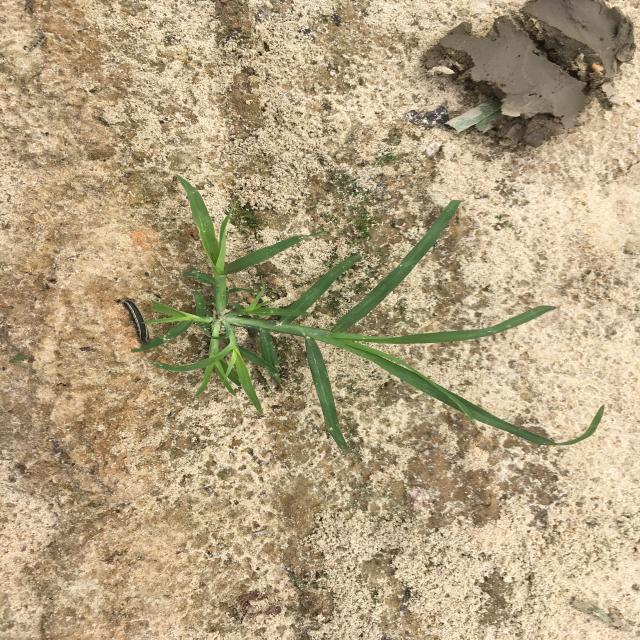Goosegrass: (131, 175, 605, 453)
